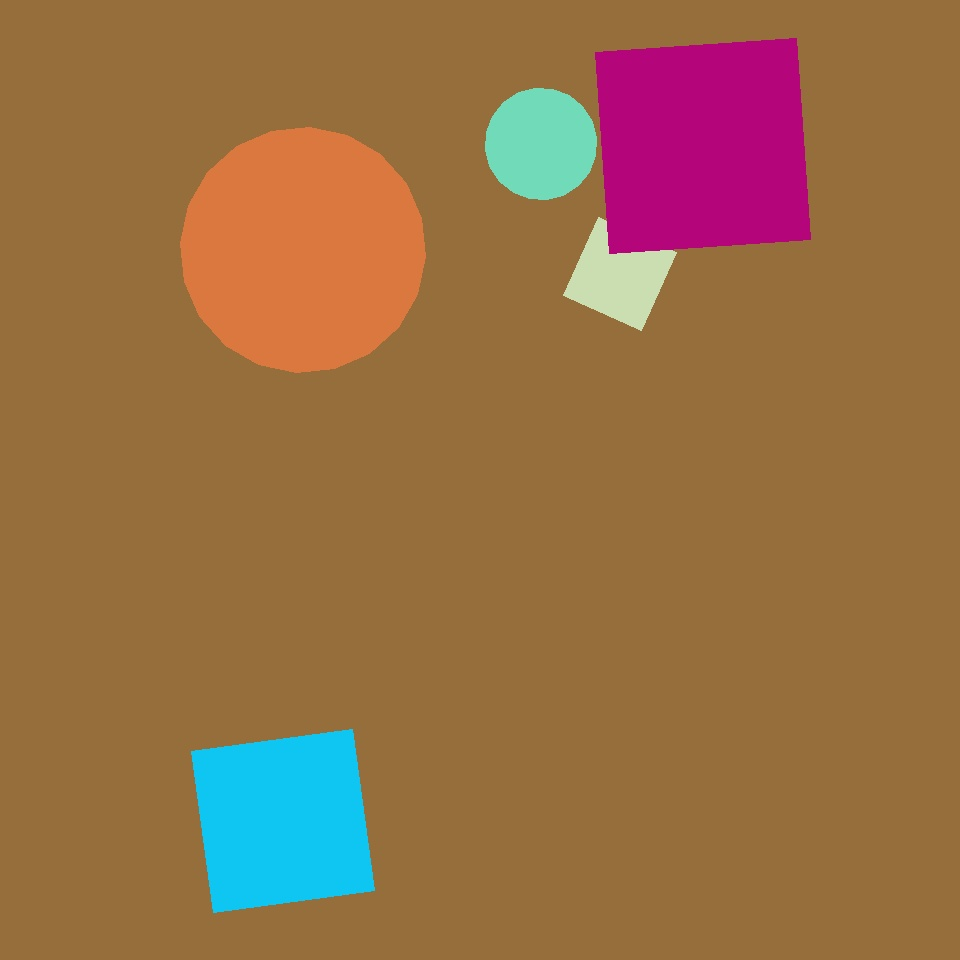circle: (483, 299, 769, 596), (303, 25, 445, 156), (437, 338, 539, 449)
square: (596, 38, 810, 253), (504, 671, 698, 865), (192, 730, 374, 912), (564, 218, 676, 330)
triangle: (316, 291, 617, 592), (180, 128, 426, 373), (486, 88, 597, 200)
